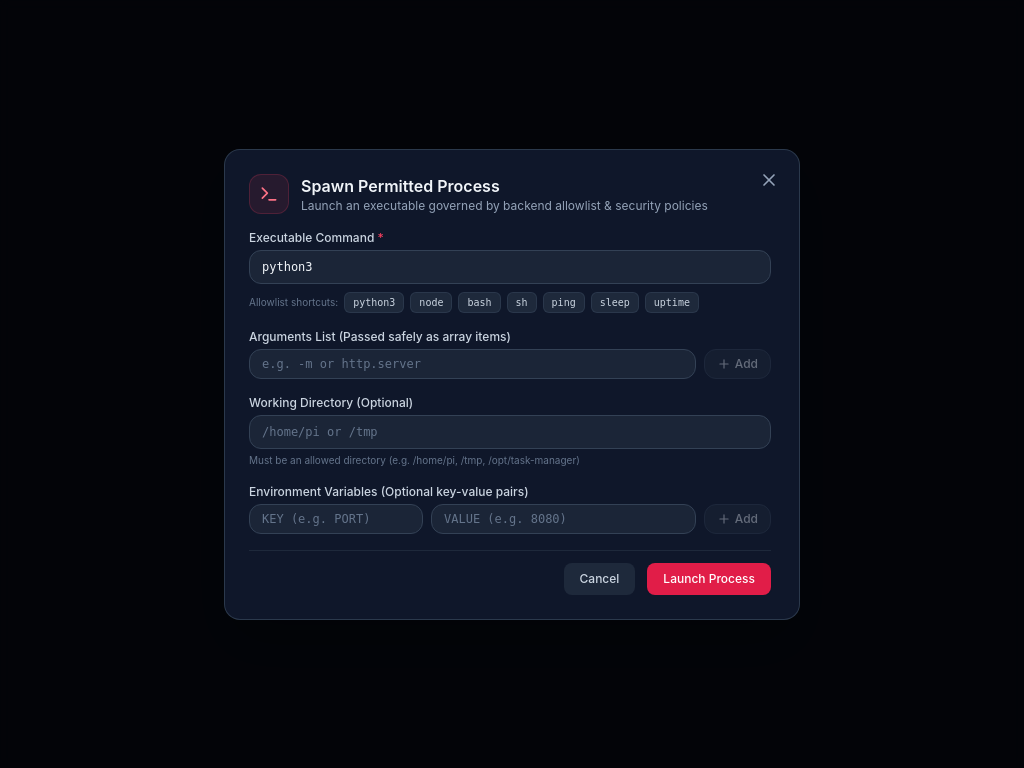
it: CreateProcessDialog › Bug Fix 2: Form state resets on re-open › resets error message when dialog re-opens
This screenshot has width=1024, height=768.
Click the button "Launch Process": (709, 578) 647,562 -> 771,594
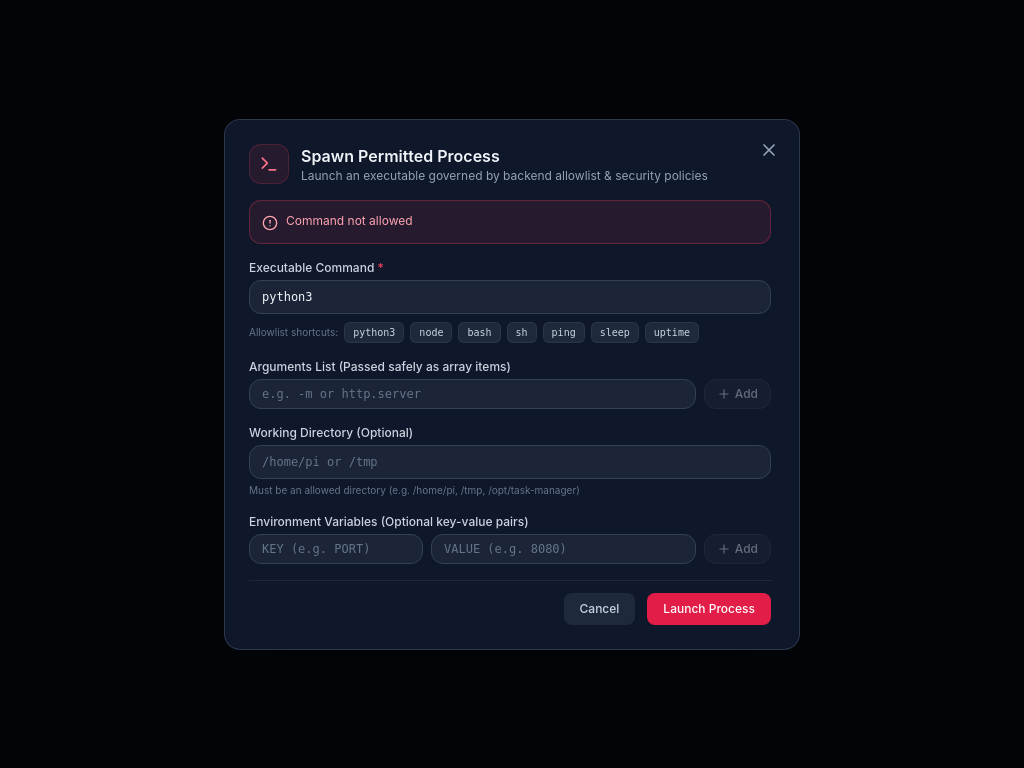
Result: the text "Command not allowed" is shown at 286,212 -> 413,228
